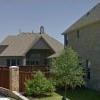Chimney: (31, 22, 50, 37)
